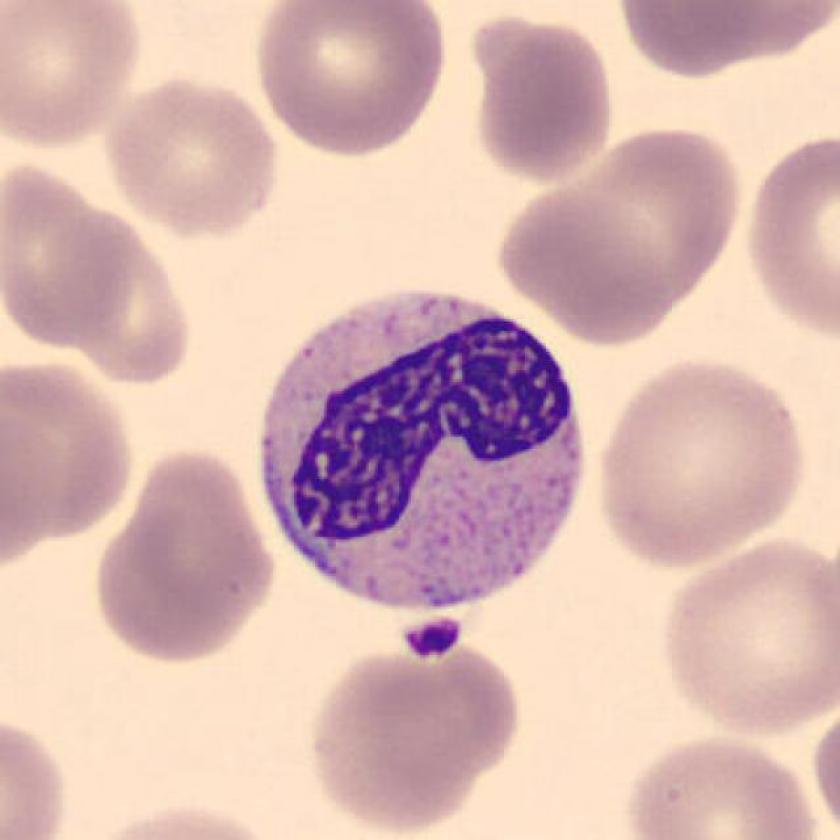neutrophil: (260, 293, 584, 612)
